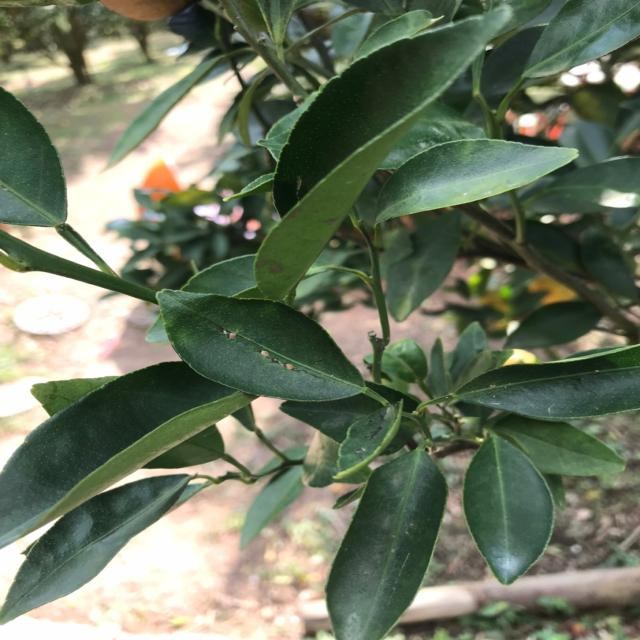canker: (263, 166, 338, 292), (346, 505, 434, 591), (206, 318, 322, 382), (342, 409, 398, 462)
